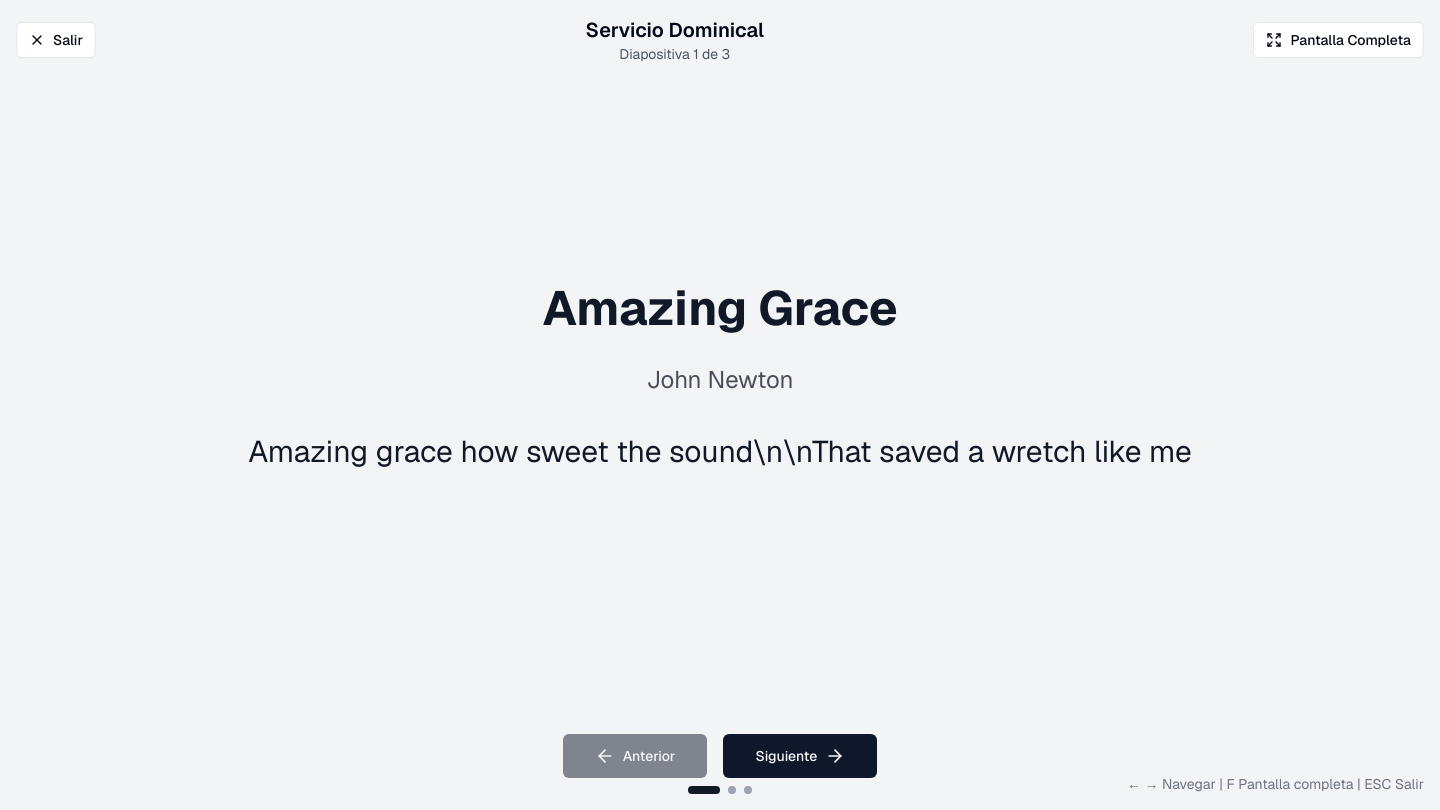
PresentationPage › navigates to previous slide
Expected: the heading "Amazing Grace" is shown, [542,277,898,339]
// Go to second slide
Click the button "Siguiente".
click(800, 756)  # box [723,734,877,778]
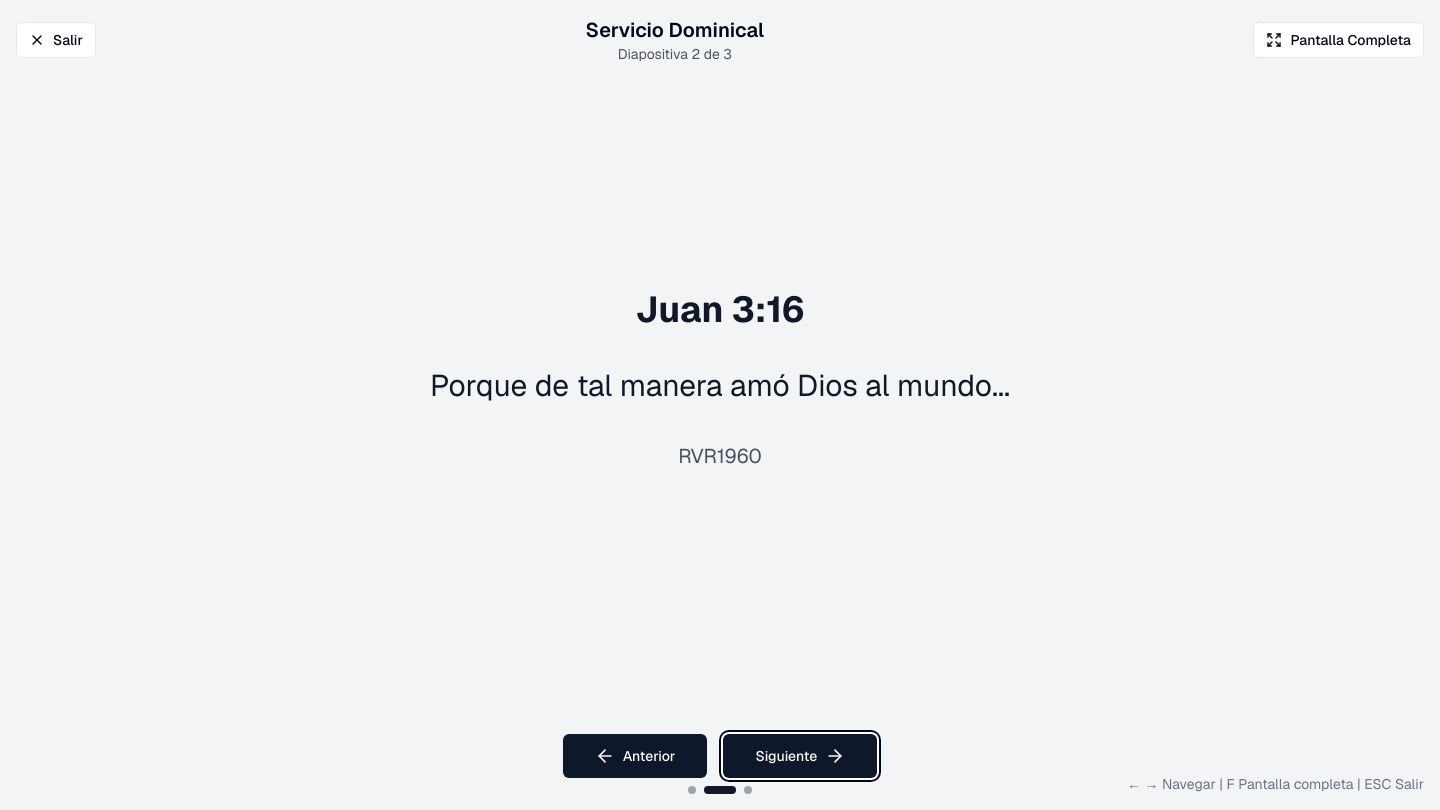
Now the heading "Juan 3:16" is shown, box [636,286,804,333]
// Go back to first slide
Click the button "Anterior".
click(635, 756)  # box [563,734,707,778]
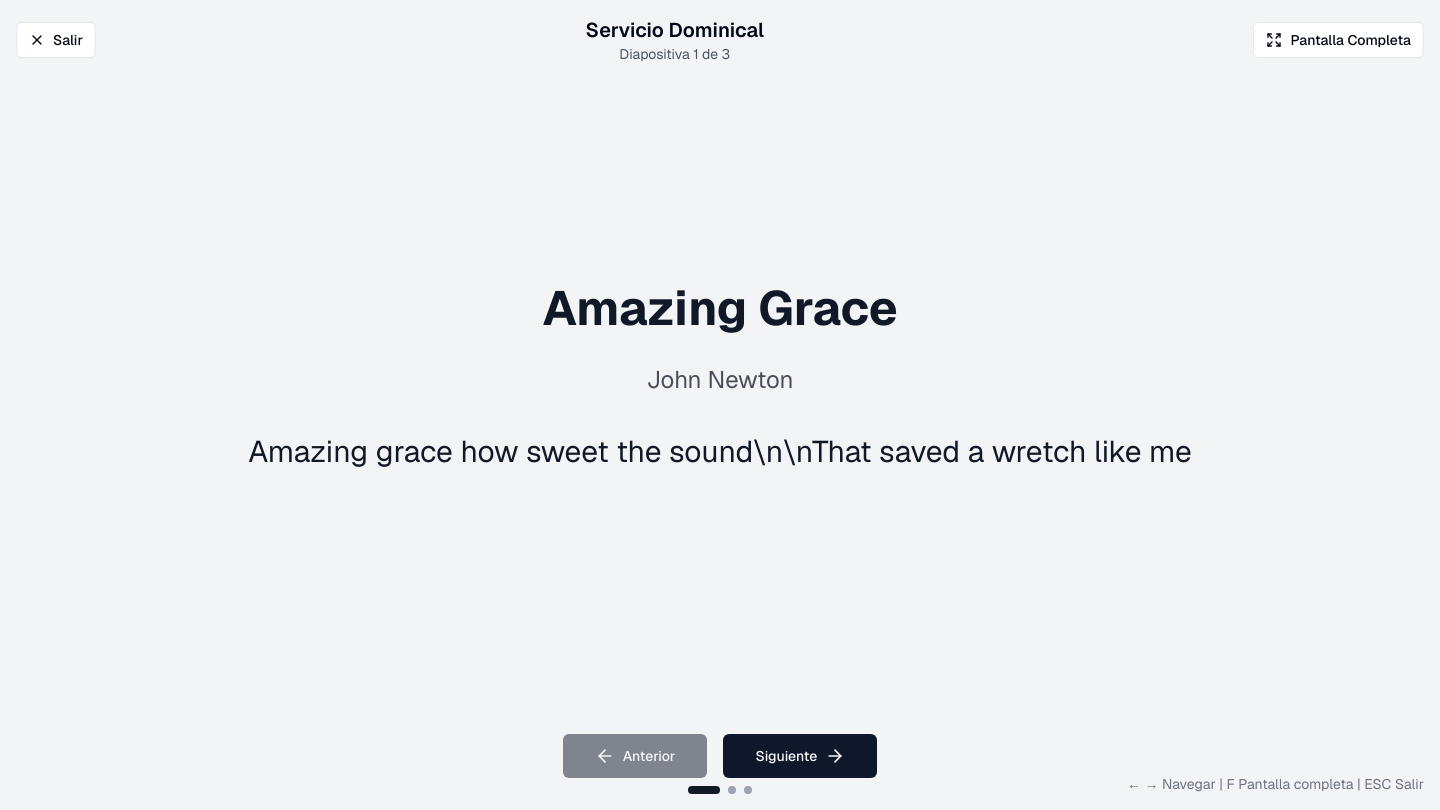
Now the heading "Amazing Grace" is shown, box [542,277,898,339]
Now the text "Diapositiva 1 de 3" is shown, box [619,45,730,63]
